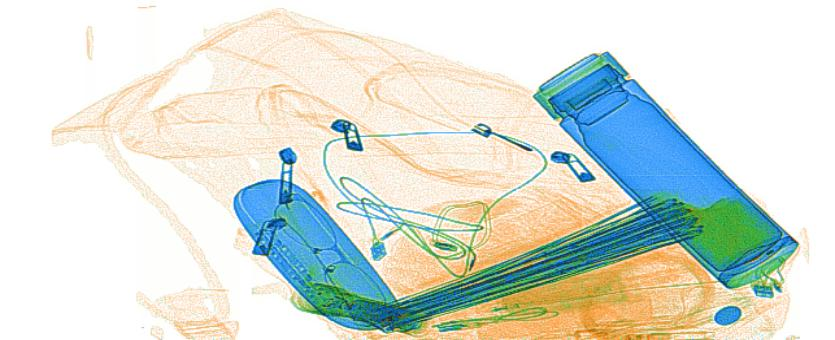battery: (346, 298, 410, 328)
